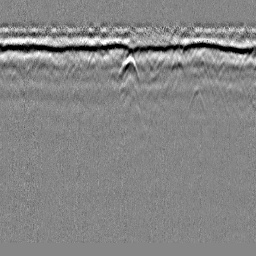cavity: (116, 53, 141, 87)
